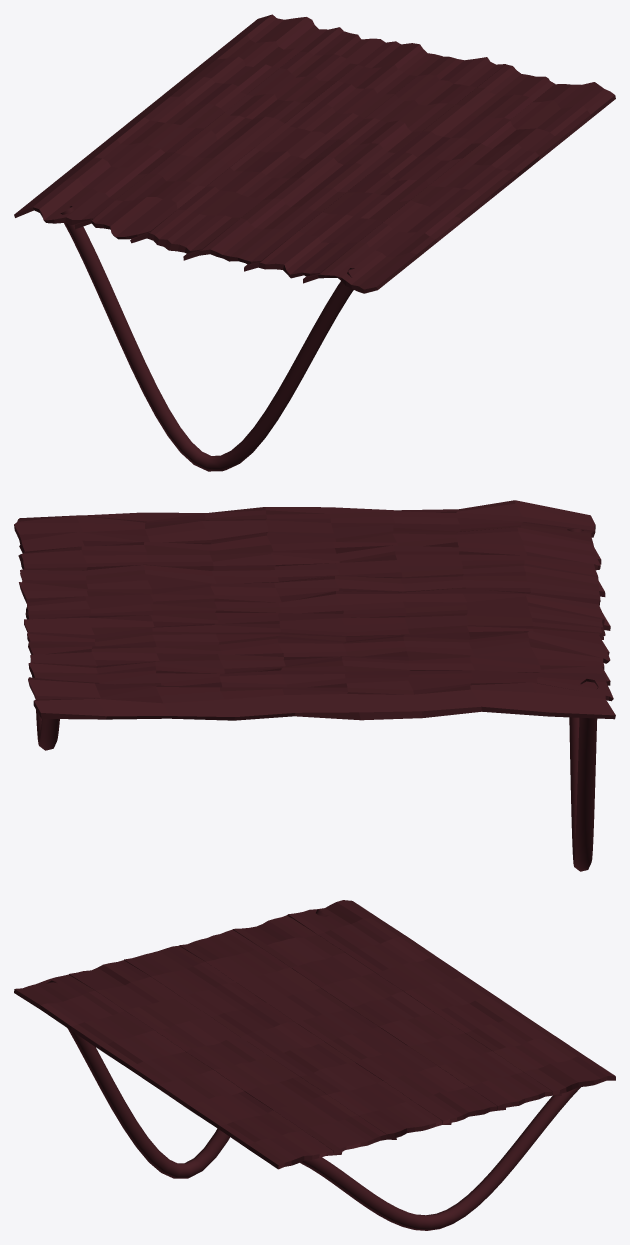
File: level_one_tree_platform_2.fbx
3 views of the same model, one above another, from view 1: azimuth 30°, elevation 25°; view 2: azimuth 150°, elevation 25°; view 3: azimuth 270°, elevation 25° (orthographic). The views are drawn at different scales.
Visible parts, largest first — view 1: TreePlatform02; view 2: TreePlatform02; view 3: TreePlatform02.
Boxes of the visible parts, left/top/right/bottom form: TreePlatform02: left=14, top=14, right=615, bottom=471; TreePlatform02: left=14, top=500, right=615, bottom=871; TreePlatform02: left=14, top=900, right=615, bottom=1230.
Bounding box in the file's own units: 371 × 399 × 162.
